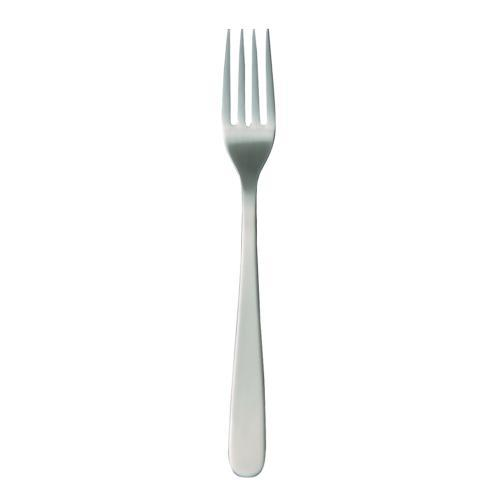Fork: (221, 27, 276, 478)
